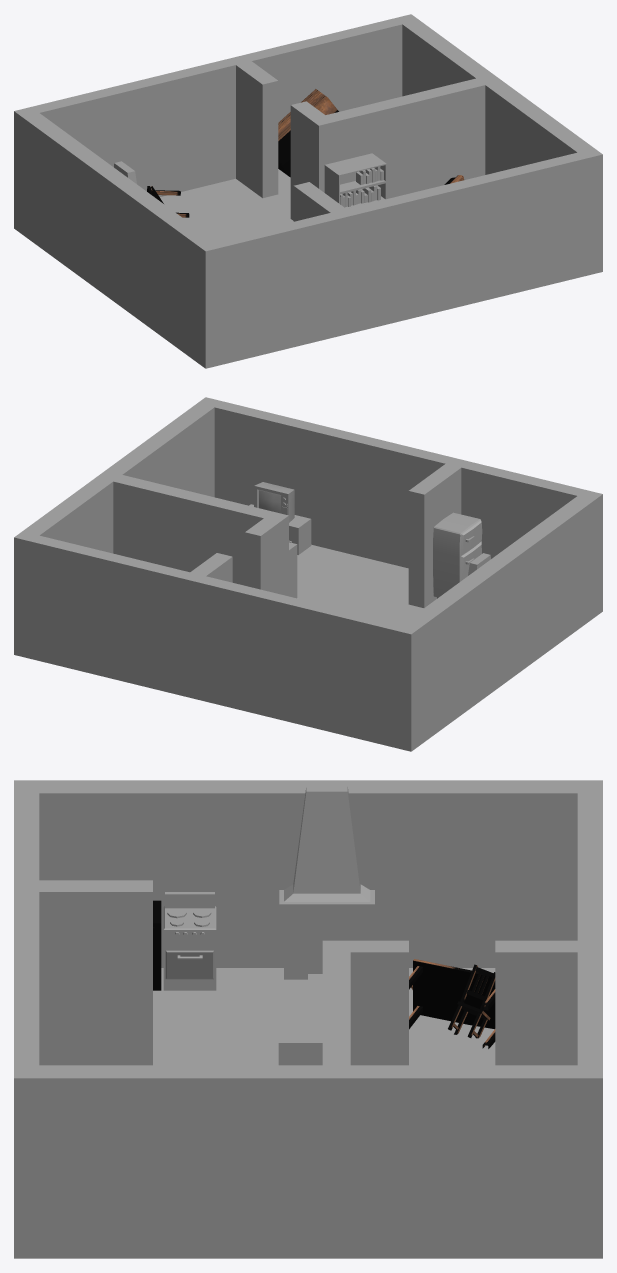
The model's file is House_I_2_Damaged.fbx.
3 renders of one model, top to bottom at view 1: azimuth 30°, elevation 25°; view 2: azimuth 150°, elevation 25°; view 3: azimuth 270°, elevation 25°, orthographic. The views are drawn at different scales.
Visible parts, largest first — view 1: House_1_Interior2, BookShelf1, Wall3, Closet2; view 2: House_1_Interior2, Wall3, Fidge2, Tube_tv, Tv_stand1, BookShelf1; view 3: House_1_Interior2, Wall3, Fire_Place_Type2_1, StoveTop_1, Table2, BookShelf1, Chair4, KItchen_Type2_2.
Boxes of the visible parts, bbox=[...] form: House_1_Interior2: bbox=[14, 14, 602, 368]; BookShelf1: bbox=[324, 153, 386, 208]; Wall3: bbox=[293, 182, 345, 221]; Closet2: bbox=[278, 89, 338, 177]; House_1_Interior2: bbox=[14, 397, 602, 751]; Wall3: bbox=[408, 464, 461, 607]; Fidge2: bbox=[433, 512, 482, 598]; Tube_tv: bbox=[254, 482, 294, 522]; Tv_stand1: bbox=[249, 504, 311, 554]; BookShelf1: bbox=[289, 542, 297, 598]; House_1_Interior2: bbox=[14, 780, 602, 1258]; Wall3: bbox=[39, 880, 152, 1065]; Fire_Place_Type2_1: bbox=[279, 786, 374, 979]; StoveTop_1: bbox=[163, 892, 216, 990]; Table2: bbox=[409, 959, 495, 1048]; BookShelf1: bbox=[278, 1007, 322, 1065]; Chair4: bbox=[448, 964, 495, 1038]; KItchen_Type2_2: bbox=[153, 900, 161, 990].
Bounding box in the file's own units: 30.07 × 8.83 × 25.13.
